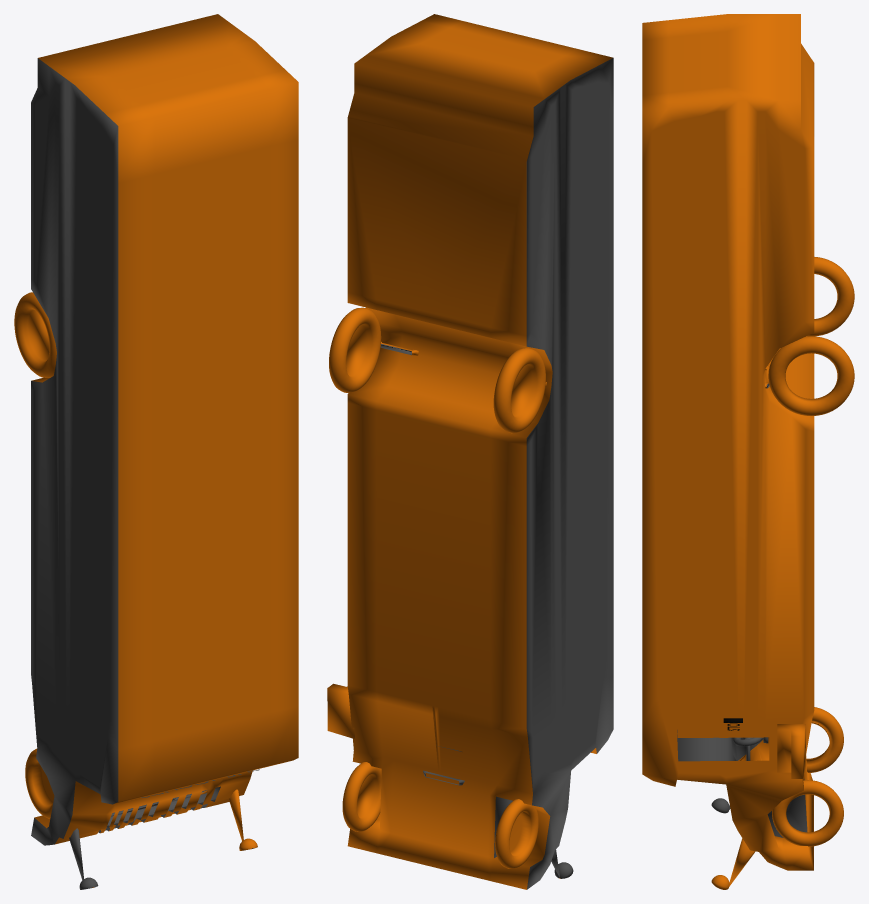
3 renders of one model, left to right at view 1: azimuth 30°, elevation 25°; view 2: azimuth 150°, elevation 25°; view 3: azimuth 270°, elevation 25°, orthographic.
Size of the model in its own units: 32.61 by 117 by 28.31.
